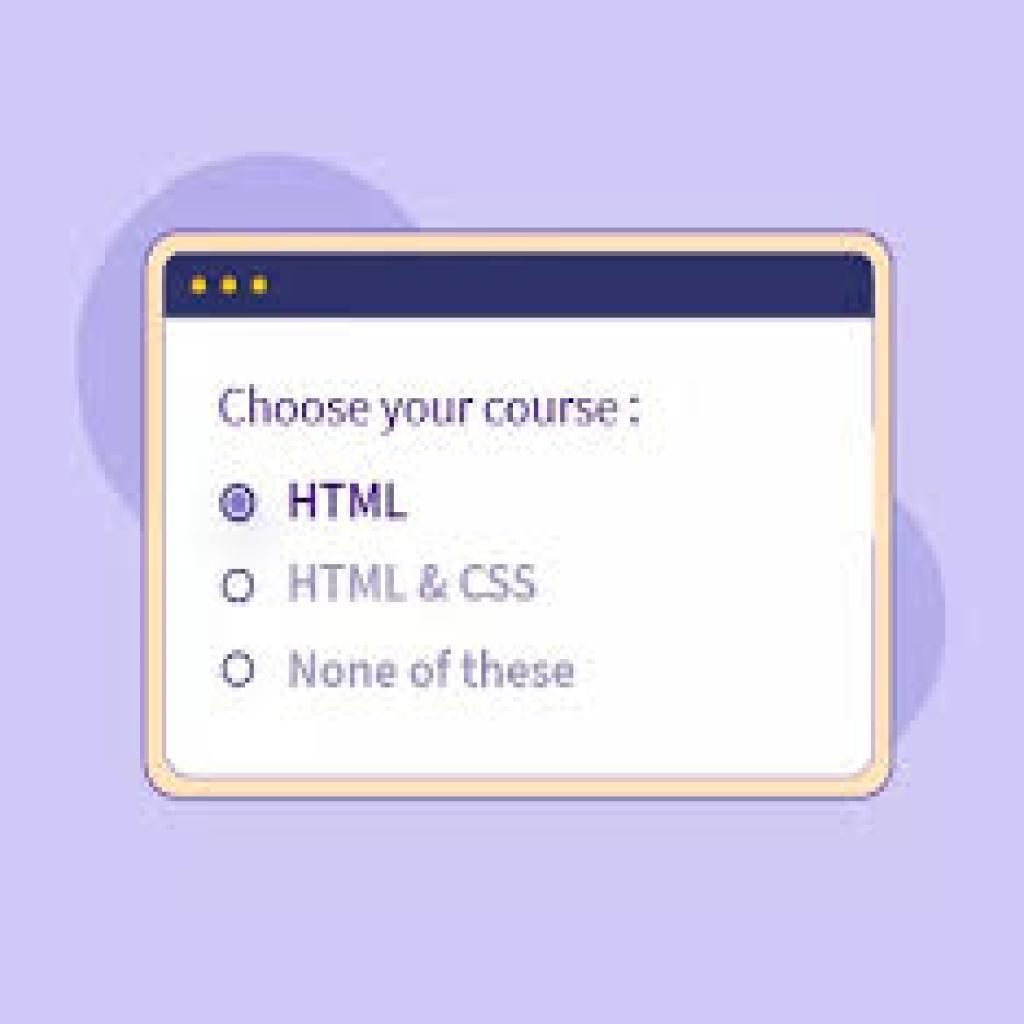radio: (216, 470, 266, 532), (217, 642, 263, 696), (217, 564, 264, 609)
